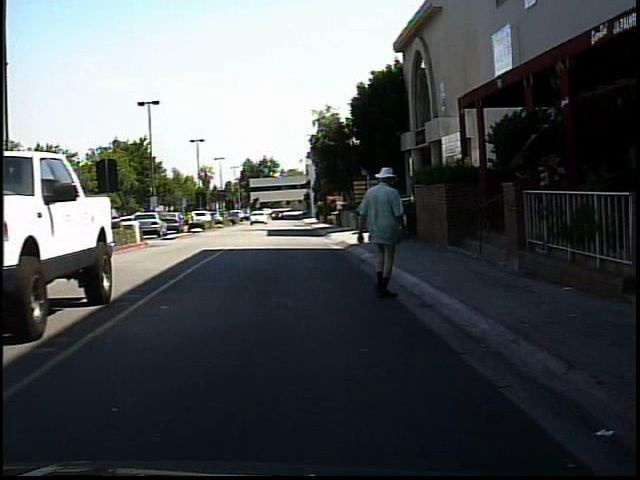person: (352, 160, 411, 303), (44, 197, 73, 266), (185, 204, 201, 229)
